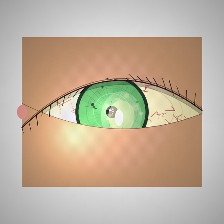corneal_ulcer: (95, 95, 147, 137)
